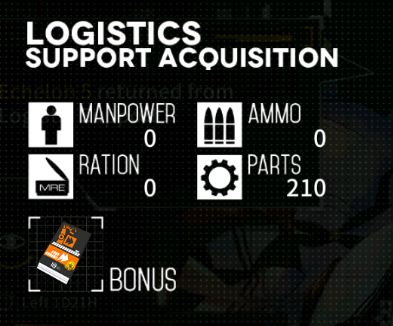latin: (24, 44, 339, 73), (24, 19, 203, 47), (77, 100, 177, 126), (109, 265, 178, 293), (79, 152, 140, 176), (246, 152, 303, 177), (247, 101, 303, 125), (285, 177, 327, 199), (312, 127, 327, 150), (143, 128, 157, 150), (143, 177, 157, 198)
